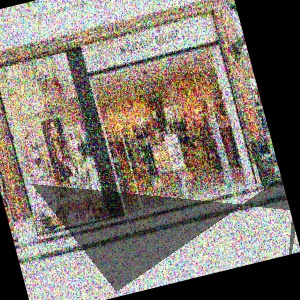women_secret: (84, 0, 244, 72)
